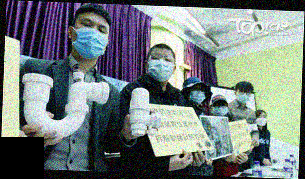with_mask: (73, 15, 110, 59), (147, 51, 176, 82), (189, 87, 207, 106), (236, 88, 252, 106), (211, 102, 228, 117), (256, 113, 267, 128)
